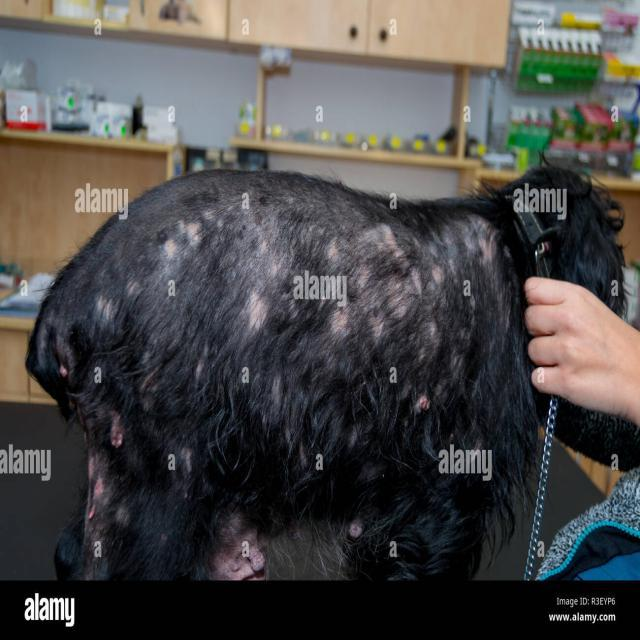mange: (77, 202, 500, 420)
